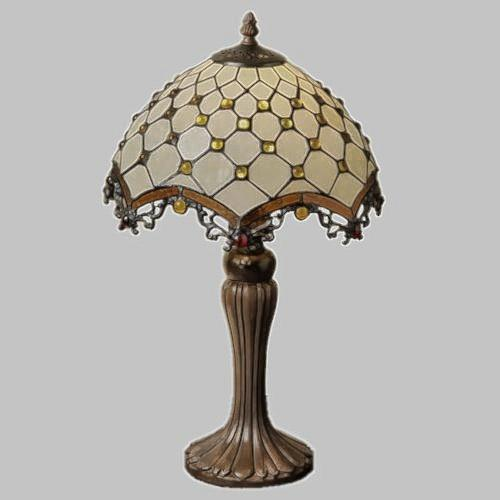lamp: (127, 26, 364, 467)
